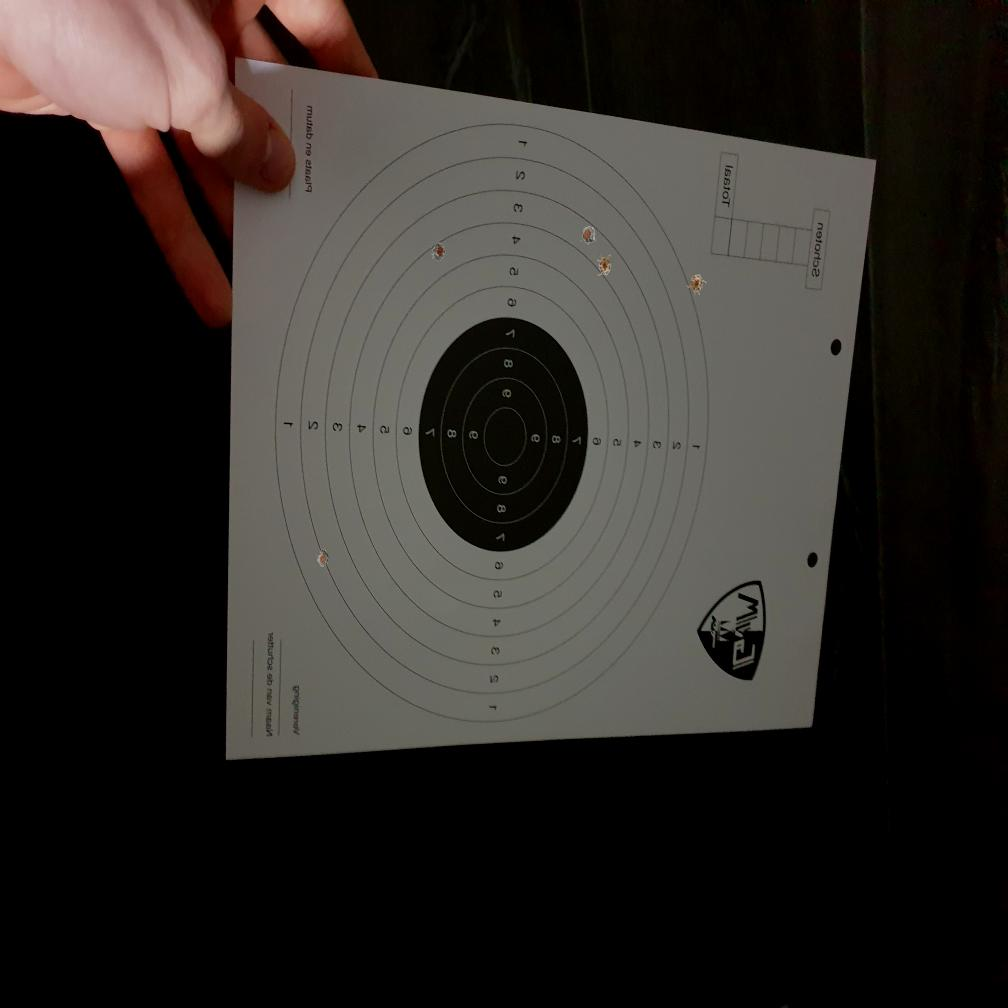1: (686, 274, 706, 296)
2: (317, 548, 329, 567)
3: (582, 226, 597, 245)
4: (596, 254, 612, 277), (432, 242, 446, 262)
Target: (274, 118, 712, 724)
black_contour: (419, 316, 588, 552)
